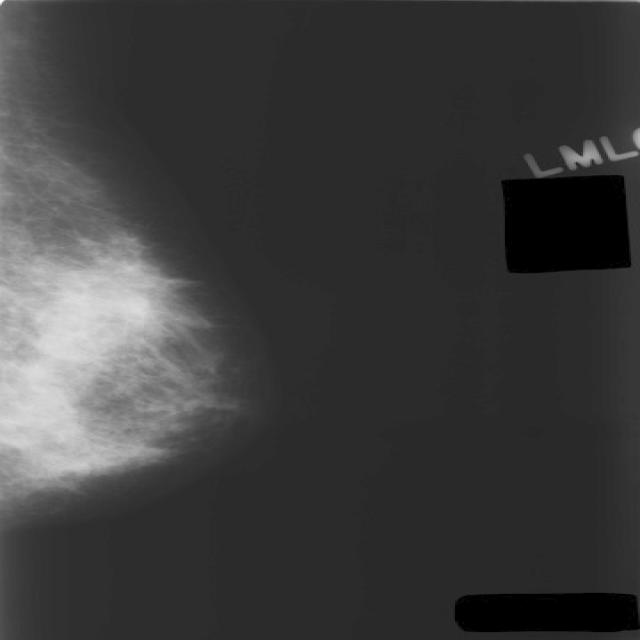tumour: (32, 285, 149, 359)
